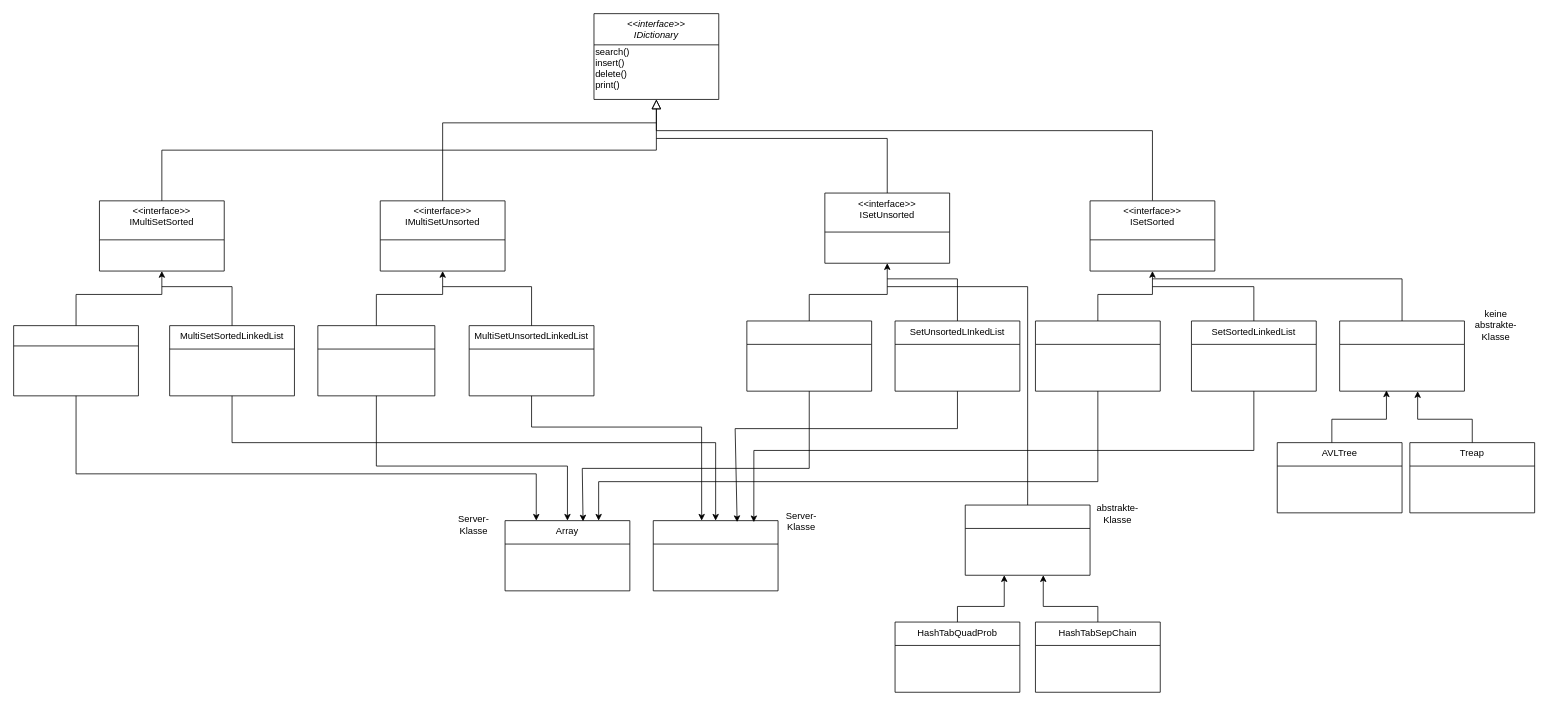
This 1548x706 diagram has some shape labels left out. Each missing label, with the centre of its shape:
BinSearchTree: (1401,355)
Hashfunktion: (1027,539)
LinkedList: (715,555)
MultiSetSortedArray: (75,360)
MultiSetUnsortedArray: (376,360)
SetSortedArray: (1097,355)
SetUnsortedArray: (809,355)
